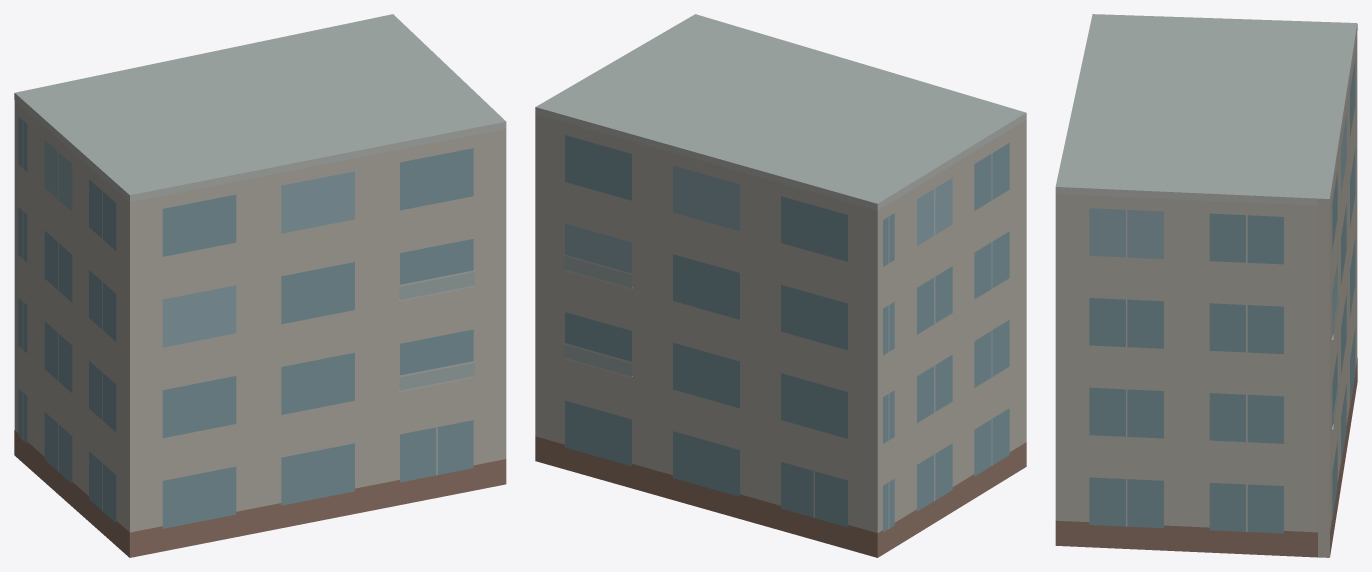
Rendered from survey-upis-32492732.glb.
3 views of the same model, side by side, from view 1: azimuth 30°, elevation 25°; view 2: azimuth 150°, elevation 25°; view 3: azimuth 270°, elevation 25° (orthographic). The views are drawn at different scales.
Visible parts, largest first — view 1: survey-upis-32492732.tmp; view 2: survey-upis-32492732.tmp; view 3: survey-upis-32492732.tmp.
Part boxes in pixels (box(x1,y1,x2,y2)): survey-upis-32492732.tmp: box(14, 14, 506, 557); survey-upis-32492732.tmp: box(535, 14, 1026, 557); survey-upis-32492732.tmp: box(1055, 14, 1357, 557).
Bounding box in the file's own units: 13.72 × 12.4 × 9.47.
